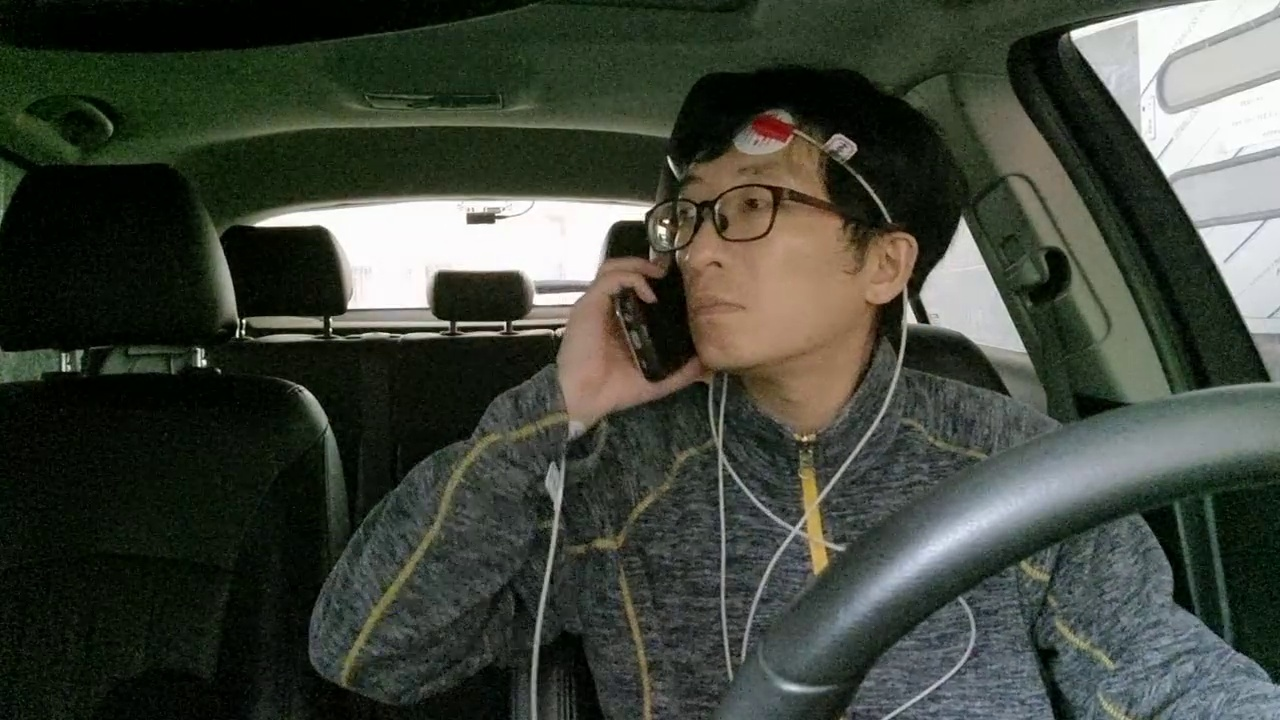phone: (563, 221, 743, 430)
